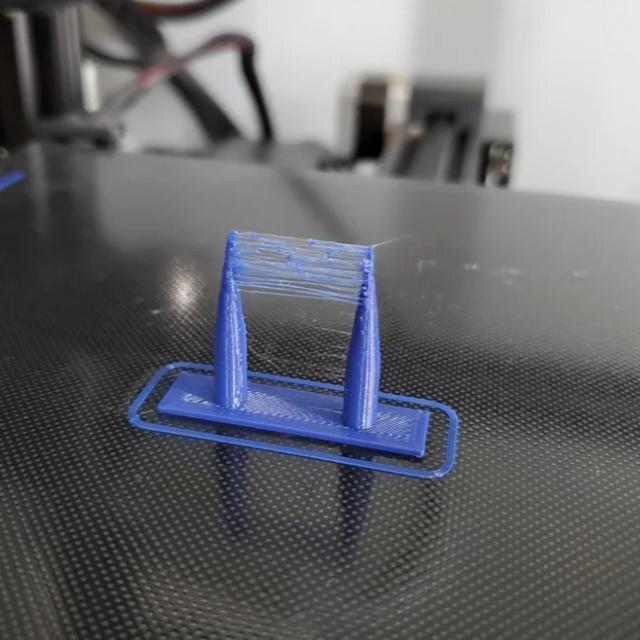stringing: (238, 227, 367, 303)
